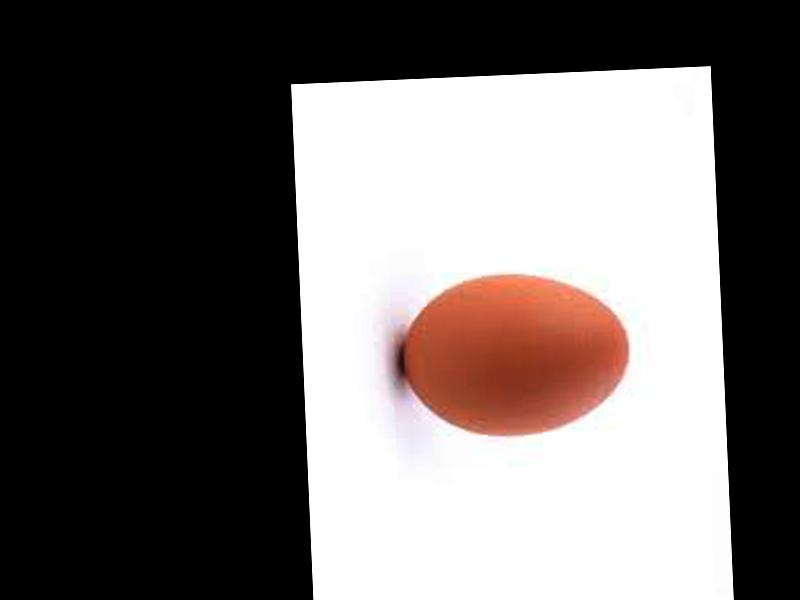Eggs: (400, 271, 634, 442)
